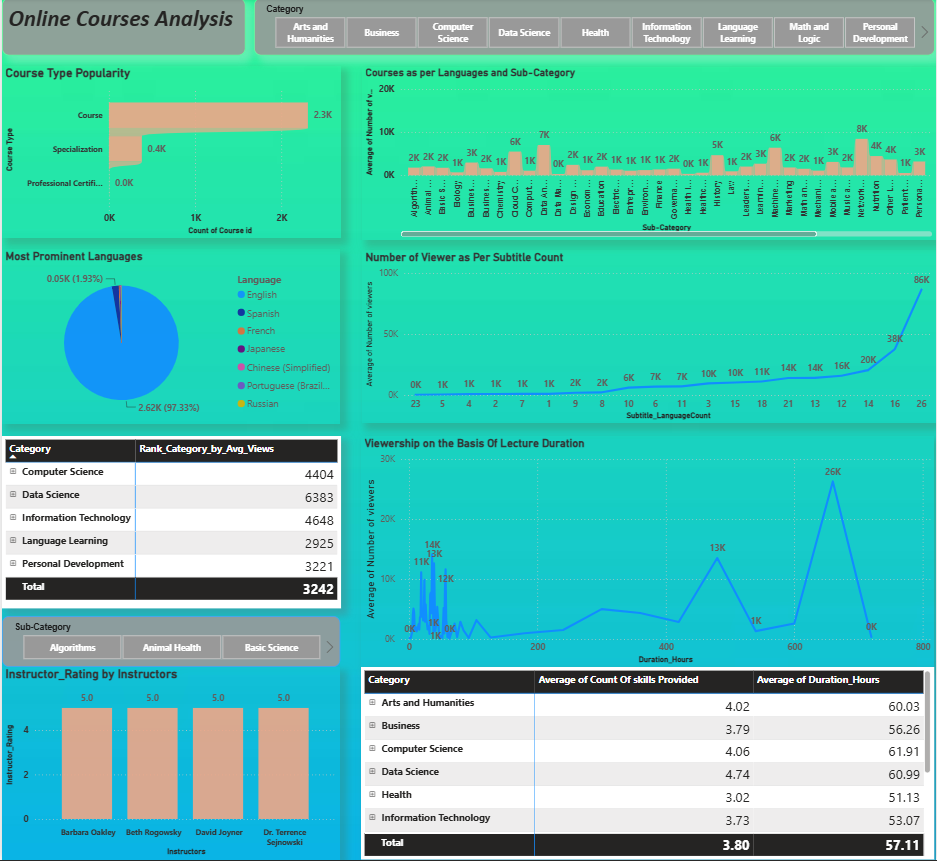

Layout of this report page (visuals, bound fields, positions):
{"tool":"powerbi","page":{"name":"Page 1","canvas":[1300,1200],"ordinal":0},"visuals":[{"type":"textbox","box":[0,0,338.7,79.8],"z":0},{"type":"slicer","fields":{"Values":["Online_Courses.Category"]},"box":[350.9,0,948.5,79.8],"z":1000},{"type":"barChart","title":"Course Type Popularity","fields":{"Category":["Online_Courses.Course Type"],"Y":["CountNonNull(Online_Courses.Course id)"]},"box":[0,94.9,471.8,239.7],"z":2000},{"type":"columnChart","title":"Courses as per Languages and Sub-Category","fields":{"Category":["Online_Courses.Sub-Category","Online_Courses.Language"],"Y":["Avg(Online_Courses.Number of viewers)"]},"box":[501.4,95.7,798.6,241.4],"z":3000},{"type":"pieChart","title":"Most Prominent Languages","fields":{"Category":["Online_Courses.Language"],"Y":["CountNonNull(Online_Courses.Course id)"]},"box":[0,350,471.4,242.9],"z":4000},{"type":"pivotTable","fields":{"Rows":["Online_Courses.Category","Online_Courses.Language"],"Values":["Online_Courses.Rank_Category_by_Avg_Views"]},"box":[0,609.3,472,240],"z":5000},{"type":"lineChart","title":"Number of Viewer as Per Subtitle Count ","fields":{"Y":["Avg(Online_Courses.Number of viewers)"],"Category":["Online_Courses.Subtitle_LanguageCount"]},"box":[501.4,351.4,798.6,241.4],"z":6000},{"type":"clusteredColumnChart","fields":{"Category":["Teacher.Instructors"],"Y":["Teacher.Instructor_Rating"]},"box":[0,931.4,471.4,268.6],"z":7000},{"type":"slicer","fields":{"Values":["Teacher.Sub-Category"]},"box":[0,860,471.4,71.4],"z":8000},{"type":"lineChart","title":"Viewership on the Basis Of Lecture Duration","fields":{"Category":["Online_Courses.Duration_Hours"],"Y":["Avg(Online_Courses.Number of viewers)"]},"box":[500,610,798,322],"z":9000},{"type":"pivotTable","fields":{"Rows":["Online_Courses.Category","Online_Courses.Sub-Category"],"Values":["Avg(Online_Courses.Count Of skills Provided)","Avg(Online_Courses.Duration_Hours)"]},"box":[500,932,798,268],"z":10000}]}

Visuals, with their boxes in screenshot pixels (x1, y1, x2, y2), scaled from the page's 1300x1200 canvas onto the 937x861 screenshot:
textbox: rect(0, 0, 244, 57)
slicer - Online_Courses.Category: rect(253, 0, 936, 57)
"Course Type Popularity" barChart: rect(0, 68, 340, 240)
"Courses as per Languages and Sub-Category" columnChart: rect(361, 69, 936, 242)
"Most Prominent Languages" pieChart: rect(0, 251, 340, 425)
pivotTable - Online_Courses.Category x Online_Courses.Language: rect(0, 437, 340, 609)
"Number of Viewer as Per Subtitle Count " lineChart: rect(361, 252, 936, 425)
clusteredColumnChart - Teacher.Instructors x Teacher.Instructor_Rating: rect(0, 668, 340, 860)
slicer - Teacher.Sub-Category: rect(0, 617, 340, 668)
"Viewership on the Basis Of Lecture Duration" lineChart: rect(360, 438, 936, 669)
pivotTable - Online_Courses.Category x Online_Courses.Sub-Category: rect(360, 669, 936, 860)
